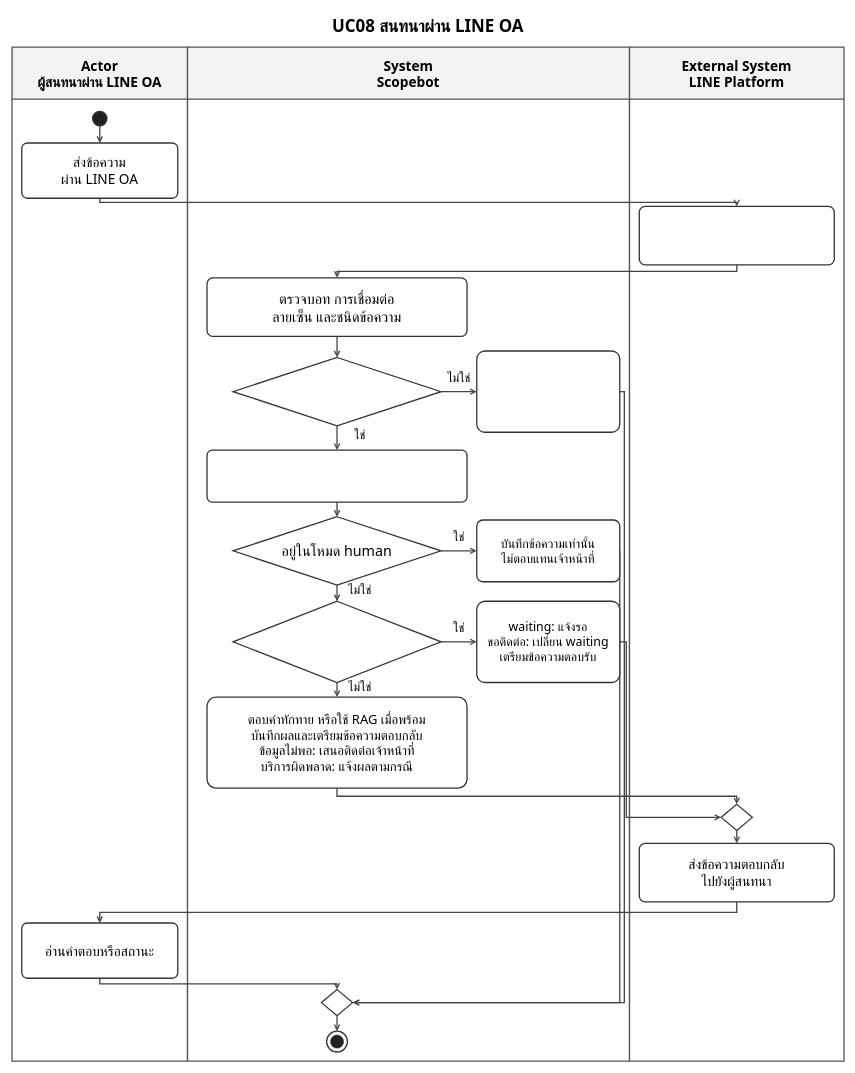
The diagram is 855 pixels wide and 1073 high, and some of its shapes have lost their labels. Here are the shapes that lost their labels. From the top down, the box of each, then its label:
(638, 205, 835, 265): รับข้อความและส่ง เหตุการณ์ไป webhook
(232, 357, 441, 426): ประมวลผลข้อความได้
(476, 350, 620, 433): ลายเซ็นผิด: ปฏิเสธ ไม่รองรับ: ข้าม ไม่เรียก RAG
(206, 449, 467, 502): ระบุรอบและบันทึกข้อความผู้สนทนา
(232, 600, 441, 683): อยู่ waiting หรือขอติดต่อเจ้าหน้าที่
